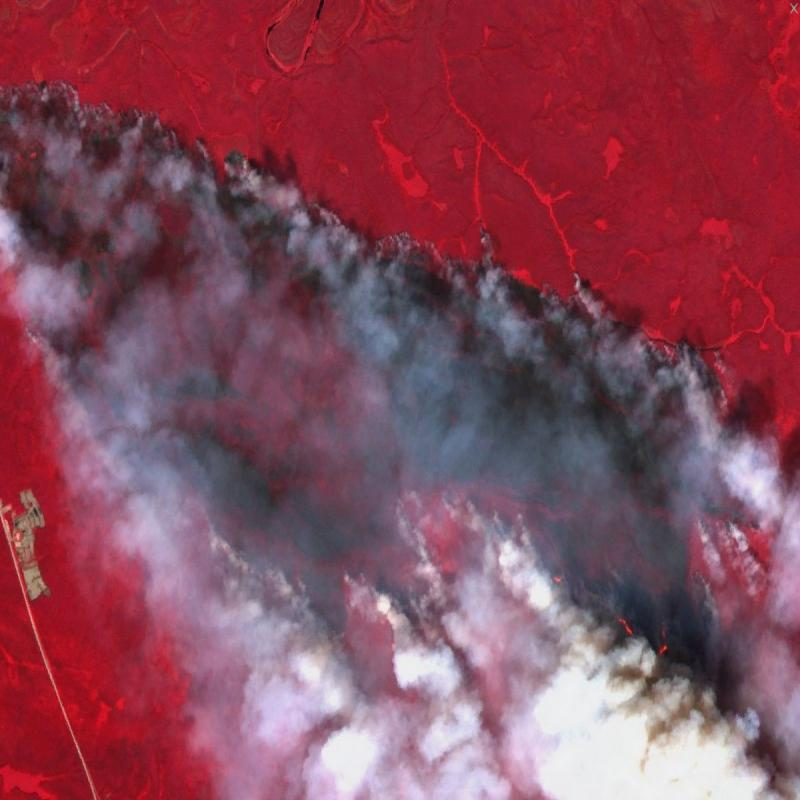fire: (0, 42, 800, 462), (546, 550, 692, 690), (688, 498, 765, 593), (396, 488, 527, 540), (342, 551, 397, 644), (195, 520, 231, 563)
